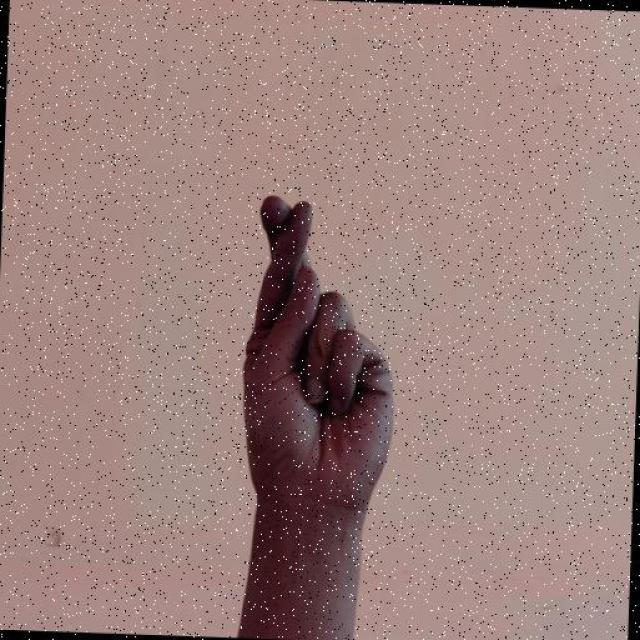R: (229, 187, 412, 528)
